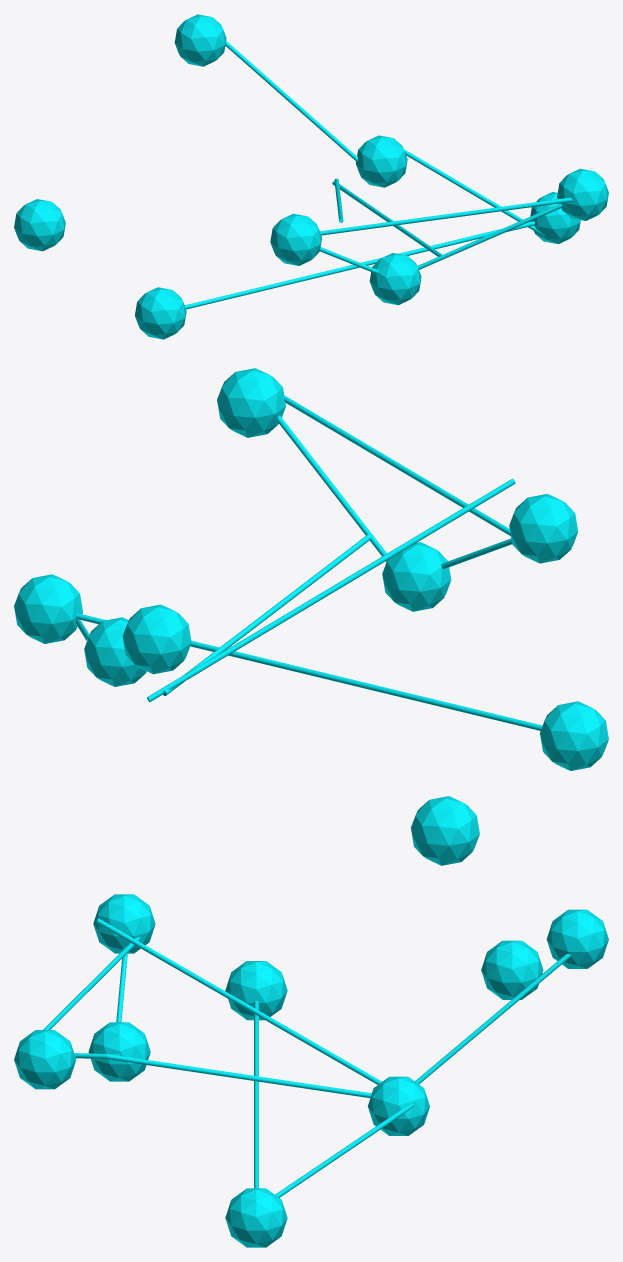
The model's file is swarm_operations.glb.
3 renders of one model, top to bottom at view 1: azimuth 30°, elevation 25°; view 2: azimuth 150°, elevation 25°; view 3: azimuth 270°, elevation 25°, orthographic. The views are drawn at different scales.
Visible parts, largest first — view 1: node_2, node_4, node_3, node_5, node_1, node_6, node_7, conn_0_4, node_0, conn_5_7, conn_1_2, conn_6_7 (+2 smaller); view 2: node_3, node_2, node_4, node_5, node_7, node_0, node_6, conn_1_5, node_1, conn_0_4, conn_5_7, conn_1_6 (+1 smaller); view 3: node_0, node_7, node_2, node_3, node_1, node_6, node_4, node_5, conn_1_5, conn_1_6, conn_1_2, conn_0_1 (+2 smaller).
Part boxes in pixels (<box>): node_2: <box>174,14,226,66</box>; node_4: <box>135,287,186,339</box>; node_3: <box>14,199,65,251</box>; node_5: <box>270,213,321,265</box>; node_1: <box>356,135,407,187</box>; node_6: <box>369,253,421,305</box>; node_7: <box>557,168,608,220</box>; conn_0_4: <box>184,221,534,309</box>; node_0: <box>530,192,580,244</box>; conn_5_7: <box>320,197,572,235</box>; conn_1_2: <box>225,41,357,161</box>; conn_6_7: <box>417,203,562,269</box>; node_3: <box>411,796,479,865</box>; node_2: <box>122,604,191,674</box>; node_4: <box>540,701,608,770</box>; node_5: <box>509,494,578,563</box>; node_7: <box>217,368,285,437</box>; node_0: <box>14,574,82,643</box>; node_6: <box>382,542,451,611</box>; conn_1_5: <box>147,478,515,701</box>; node_1: <box>84,617,146,686</box>; conn_0_4: <box>76,613,542,730</box>; conn_5_7: <box>284,395,510,536</box>; conn_1_6: <box>163,533,373,695</box>; node_0: <box>225,1188,287,1247</box>; node_7: <box>14,1030,76,1089</box>; node_2: <box>546,909,608,968</box>; node_3: <box>481,940,543,999</box>; node_1: <box>367,1076,429,1135</box>; node_6: <box>88,1022,150,1081</box>; node_4: <box>225,961,287,1020</box>; node_5: <box>93,894,155,953</box>; conn_1_5: <box>96,918,381,1084</box>; conn_1_6: <box>105,1053,371,1097</box>; conn_1_2: <box>415,954,571,1084</box>; conn_0_1: <box>275,1104,413,1197</box>.
Size of the model in its own units: 0.2352 by 0.0892 by 0.229.
